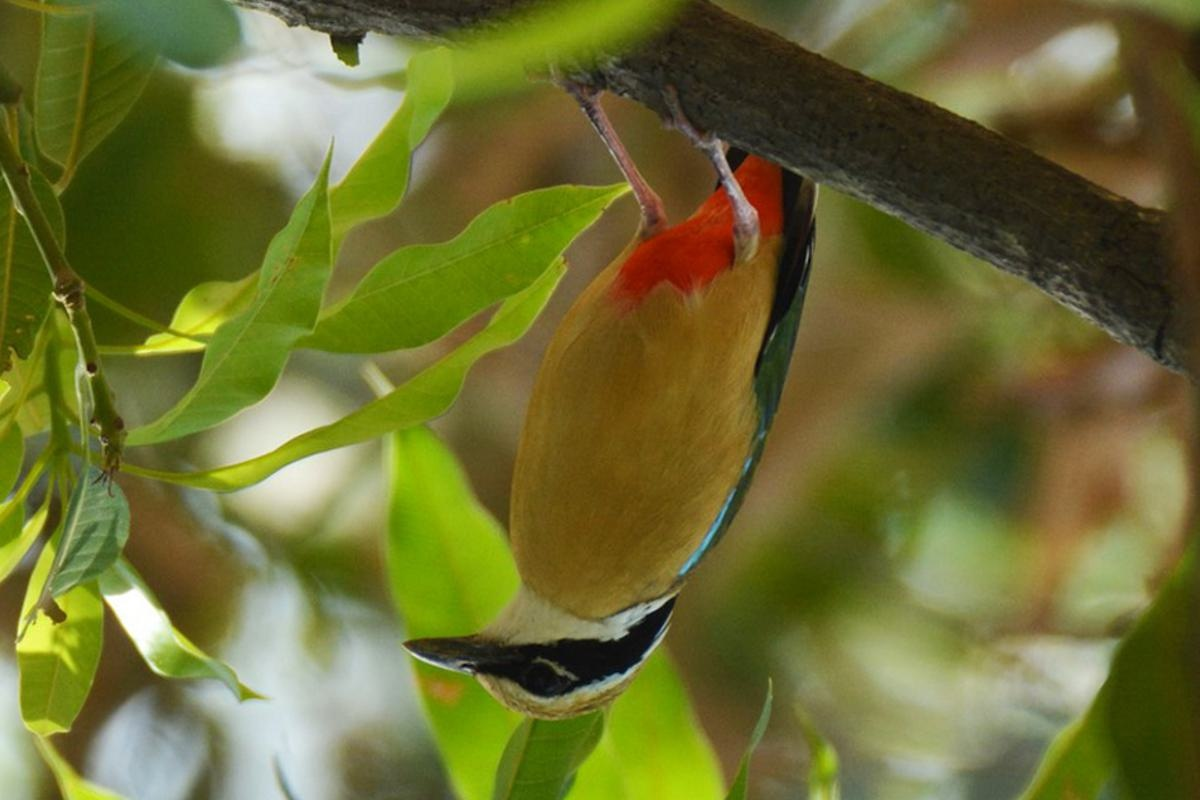pitta: (376, 125, 825, 730)
